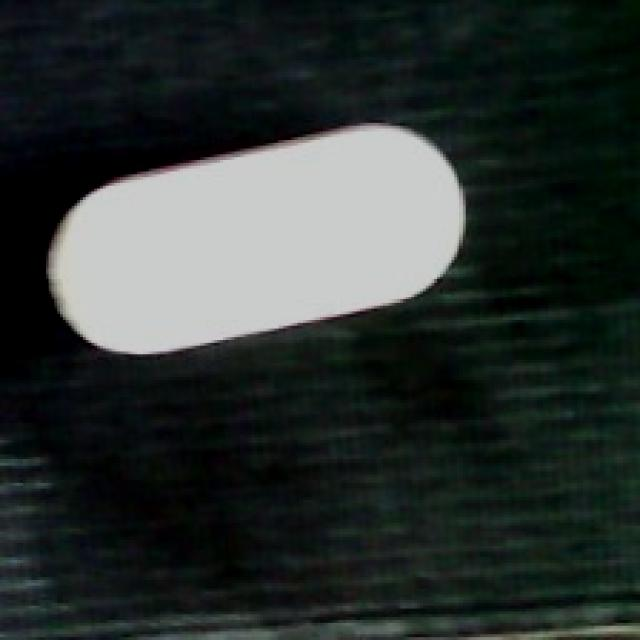no-defect: (43, 116, 474, 359)
